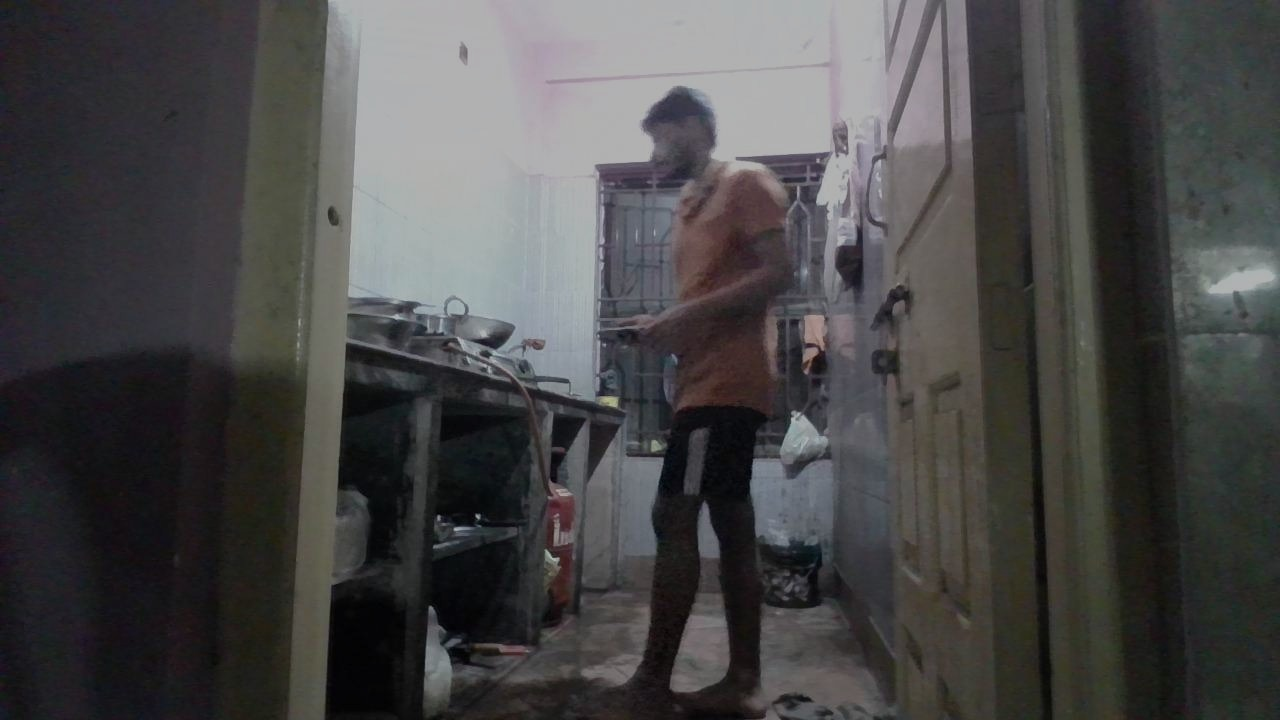red_box: (702, 366, 749, 405)
